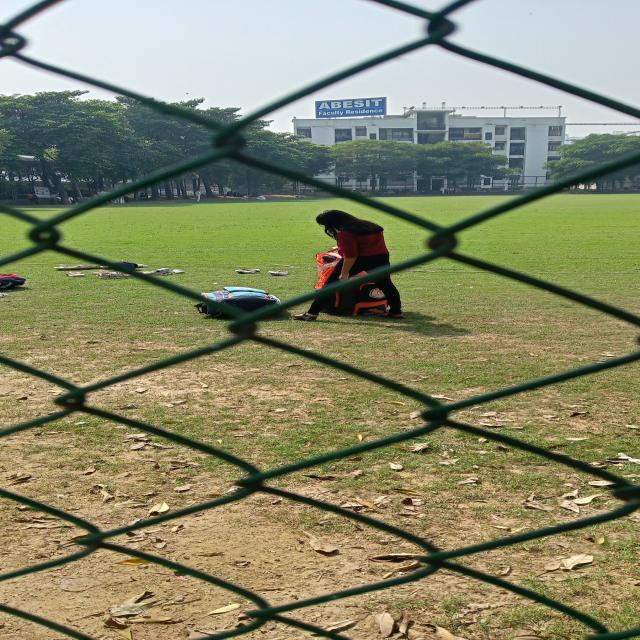unsafe: (295, 209, 404, 320)
